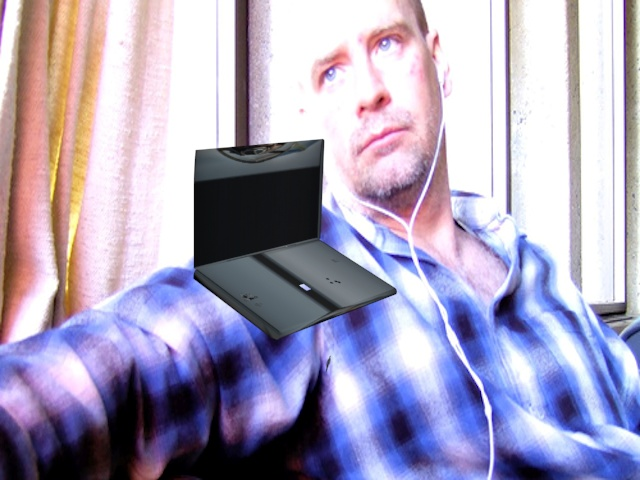laptop_computer: (193, 129, 400, 376)
